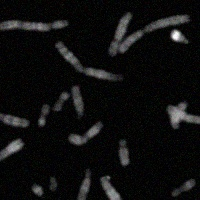chromosome: (53, 40, 121, 83), (120, 15, 189, 52), (0, 16, 68, 33), (107, 12, 130, 55), (0, 99, 30, 129), (67, 122, 104, 145), (166, 104, 200, 125), (76, 165, 93, 200), (0, 137, 23, 162), (102, 174, 124, 200), (171, 177, 196, 197), (170, 99, 186, 128), (71, 86, 86, 116), (116, 139, 131, 166), (171, 29, 191, 45), (53, 91, 68, 112), (37, 103, 50, 126), (47, 176, 58, 191), (30, 184, 43, 196)
